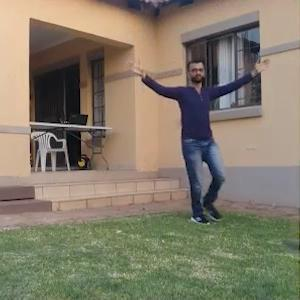takeoff: (125, 62, 269, 224)
